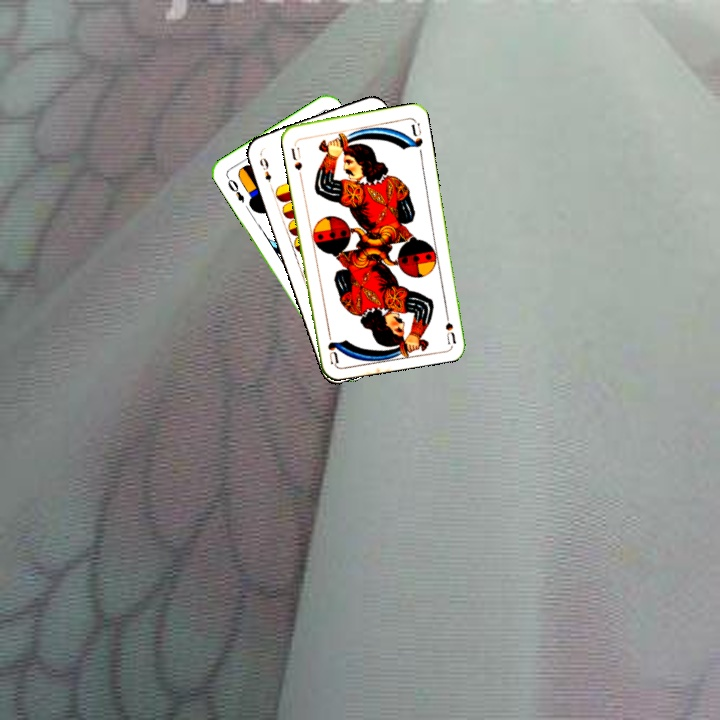E9: (255, 150, 275, 190)
EO: (222, 172, 247, 205)
SU: (287, 138, 305, 179), (441, 304, 458, 345)
